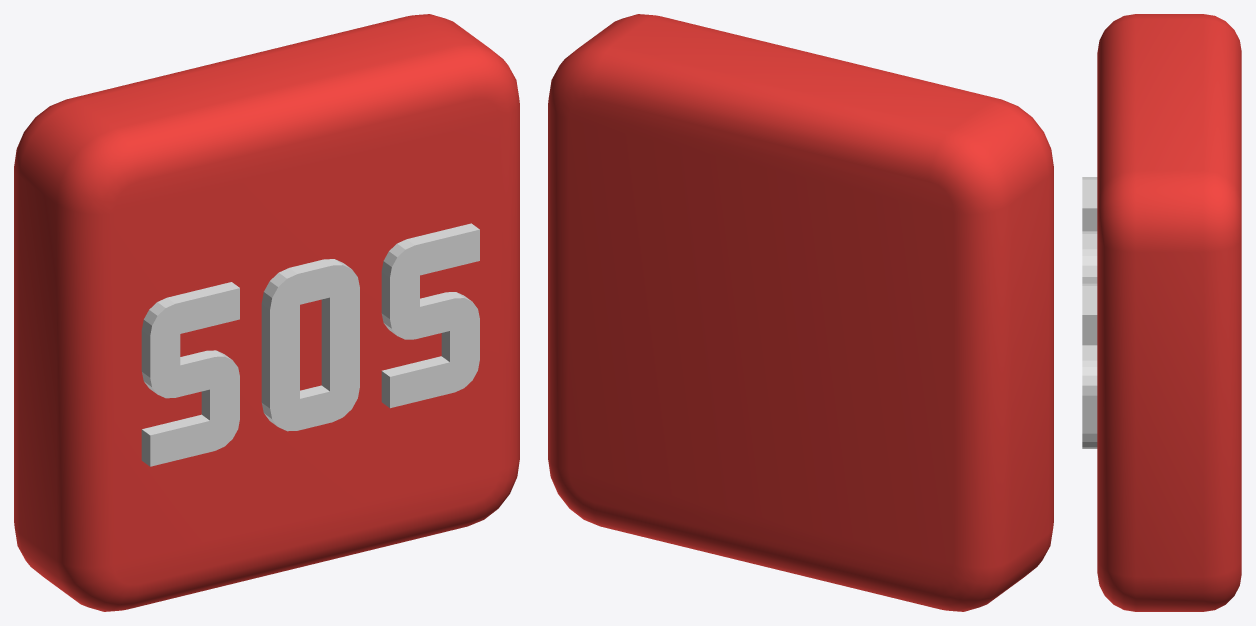
The model's file is sos_button.gltf.
3 views of the same model, side by side, from view 1: azimuth 30°, elevation 25°; view 2: azimuth 150°, elevation 25°; view 3: azimuth 270°, elevation 25° (orthographic). The views are drawn at different scales.
Visible parts, largest first — view 1: Cube.6648, Plane.367; view 2: Cube.6648; view 3: Cube.6648, Plane.367.
Boxes of the visible parts, x1,y1,x2,y2 form: Cube.6648: (14,14,519,611); Plane.367: (141,223,479,466); Cube.6648: (548,14,1053,611); Cube.6648: (1097,14,1241,611); Plane.367: (1082,177,1097,448).
Size of the model in its own units: 2.2 by 2.2 by 0.73.
1 material, 1 textured.
